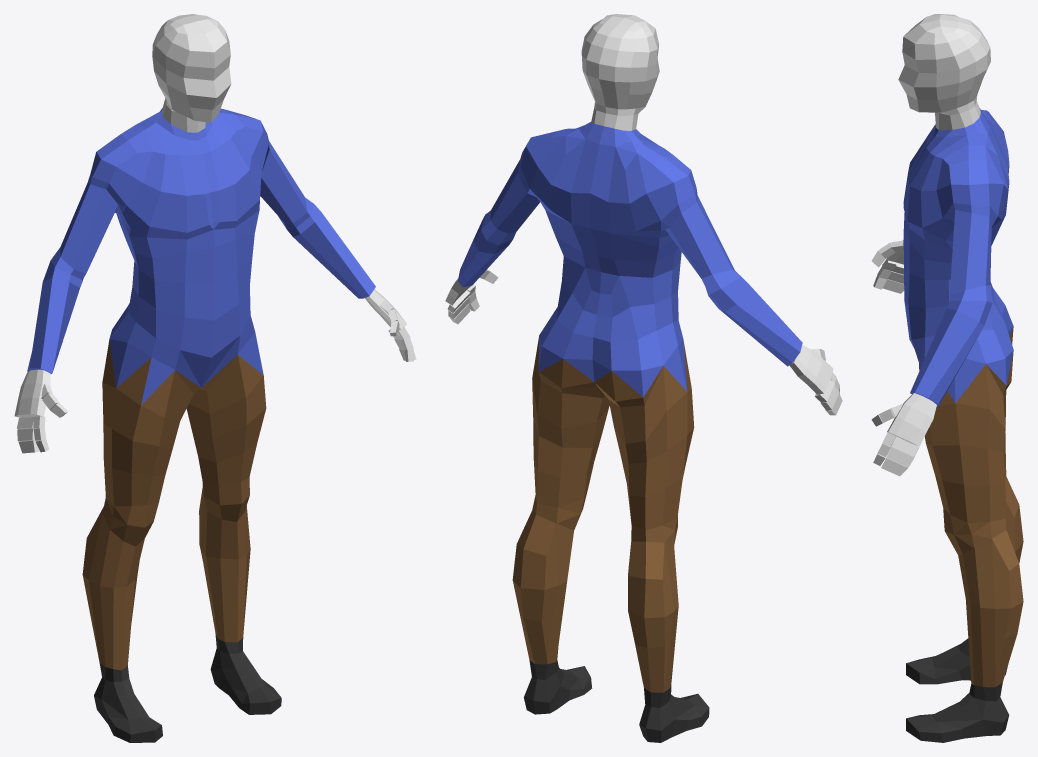
File: pages.glb
The picture shows the model from 3 angles, left to right: view 1: azimuth 30°, elevation 25°; view 2: azimuth 150°, elevation 25°; view 3: azimuth 270°, elevation 25°; orthographic projection.
Visible parts, largest first — view 1: Plane.007; view 2: Plane.007; view 3: Plane.007.
Part boxes in pixels (box(x1,y1,x2,y2)): Plane.007: box(14, 14, 416, 742); Plane.007: box(445, 14, 842, 742); Plane.007: box(871, 14, 1023, 742).
Bounding box in the file's own units: 1.06 × 1.82 × 0.3652.
